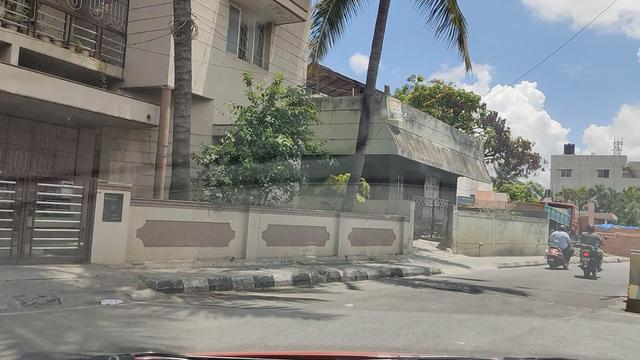RoadDamages: (558, 286, 623, 331)
